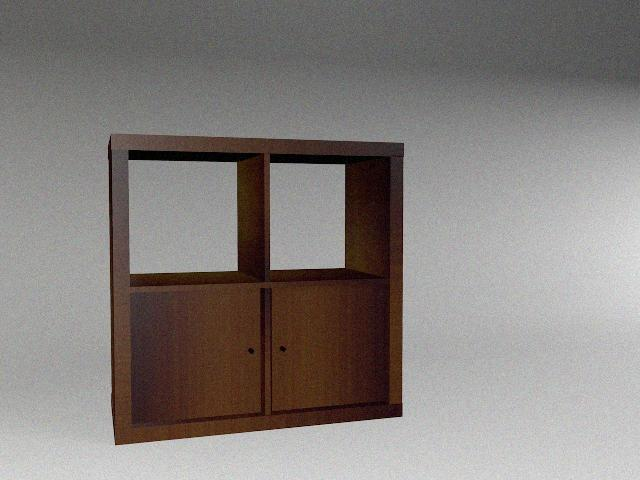cabinet_door: (130, 283, 266, 420), (271, 279, 389, 408)
handle: (242, 342, 259, 359), (276, 343, 289, 354)
